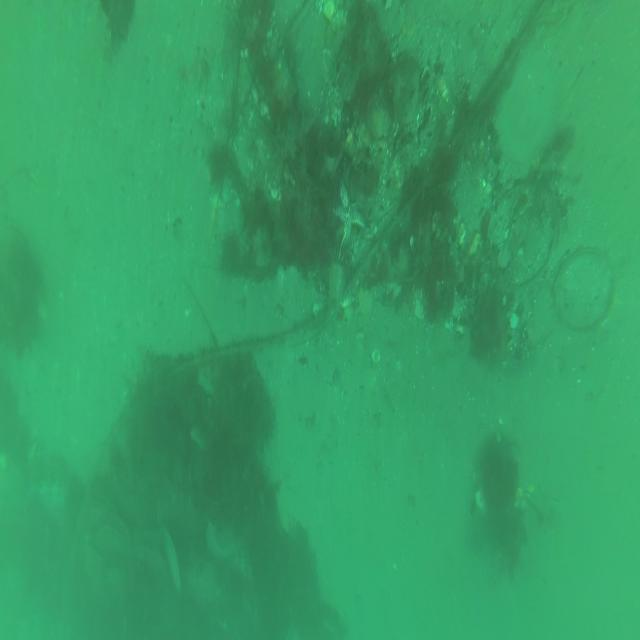starfish: (329, 172, 367, 257)
